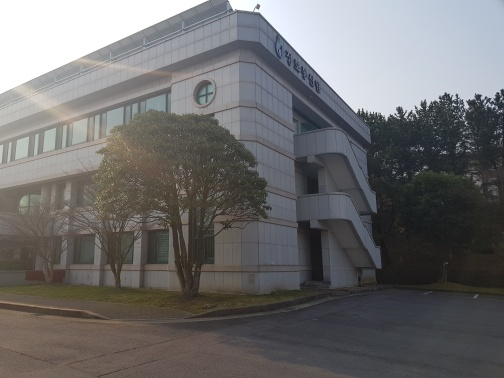Information Telecommunication Center: (9, 30, 381, 290), (234, 12, 381, 300), (263, 29, 334, 101)
